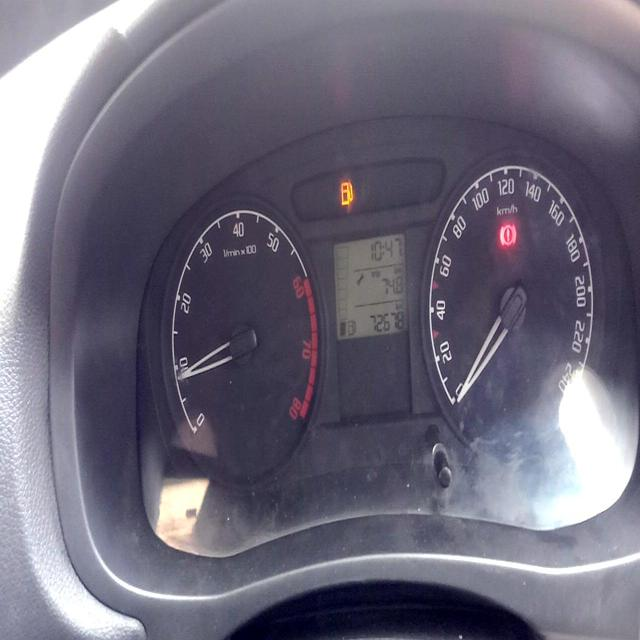odometer: (368, 308, 405, 334)
